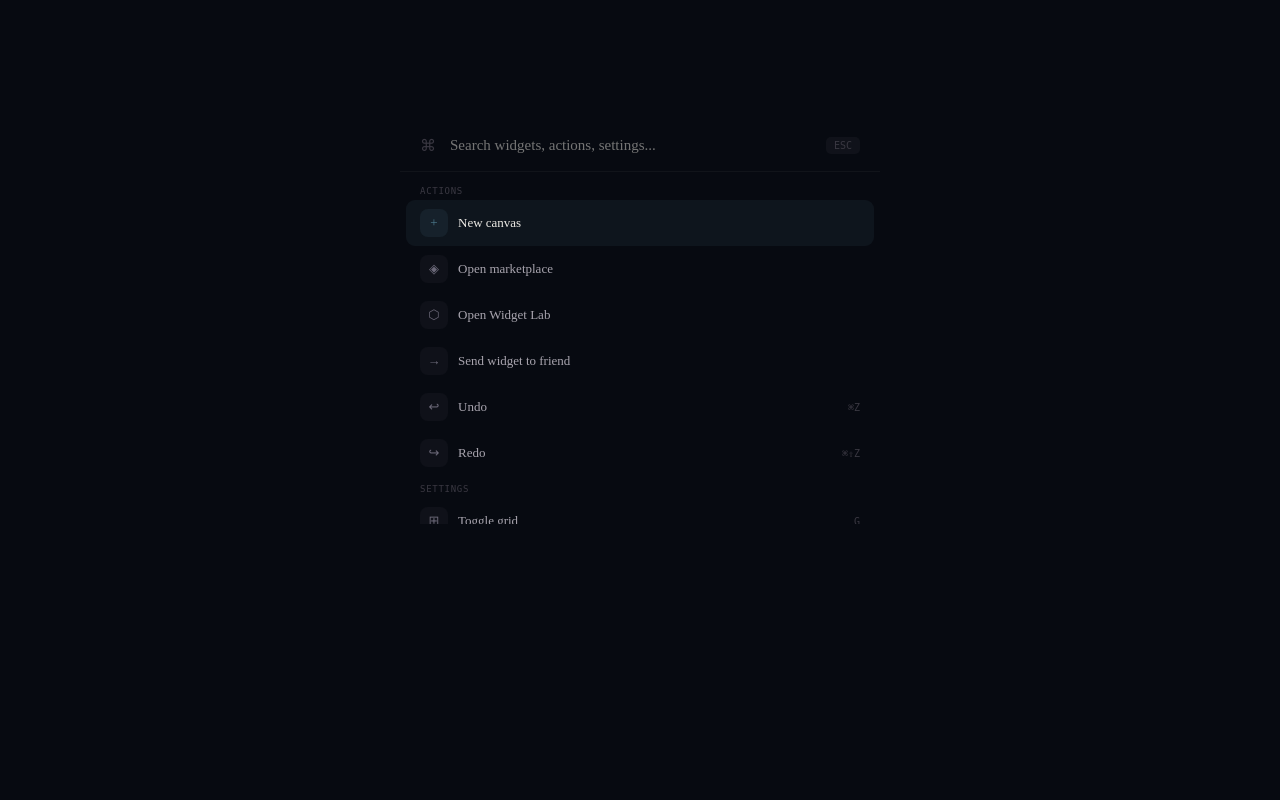
Scenario: CommandPalette › filters results by query
Type "undo" into the field with placeholder "Search widgets, actions, settings...".
click(631, 146); type("undo")  # box [448,136,814,155]
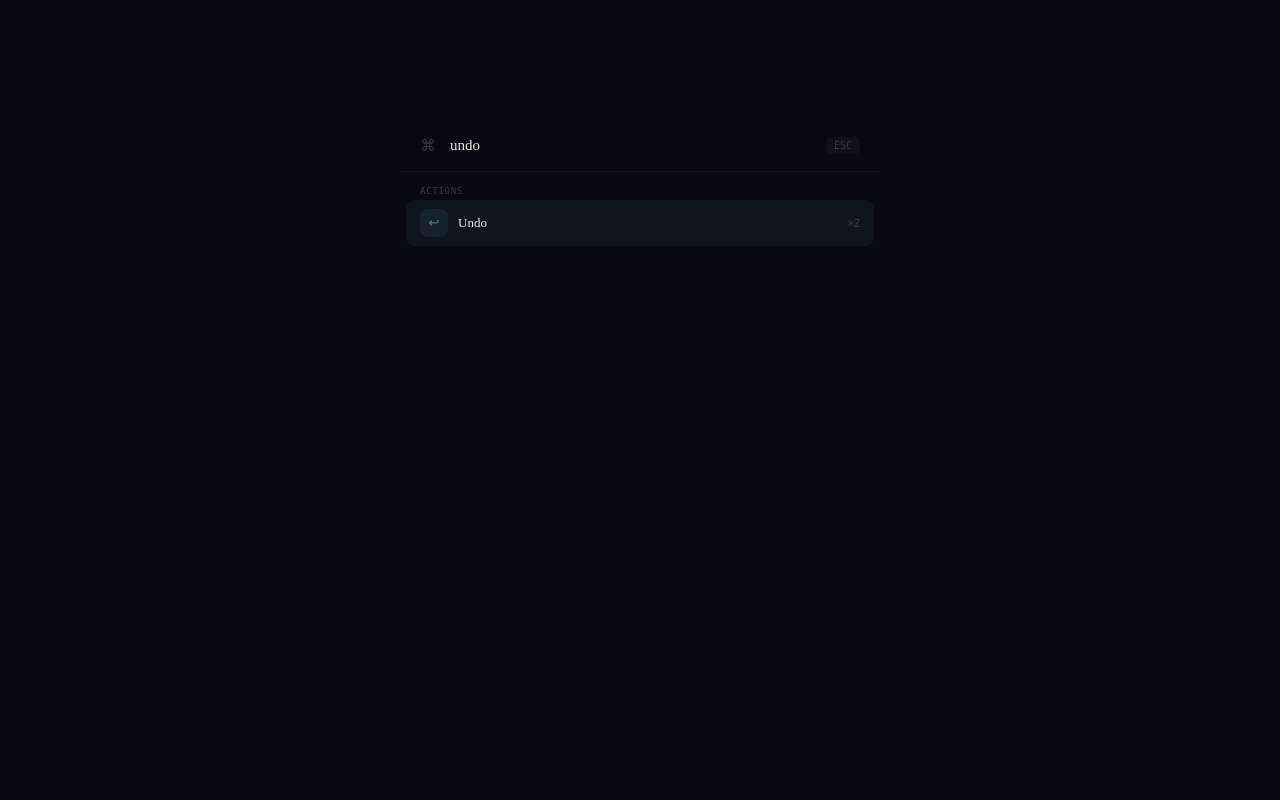
Expected: the element with test id "palette-result-undo" is shown, [406,200,874,246]
Expected: the element with test id "palette-result-toggle-grid" is gone
